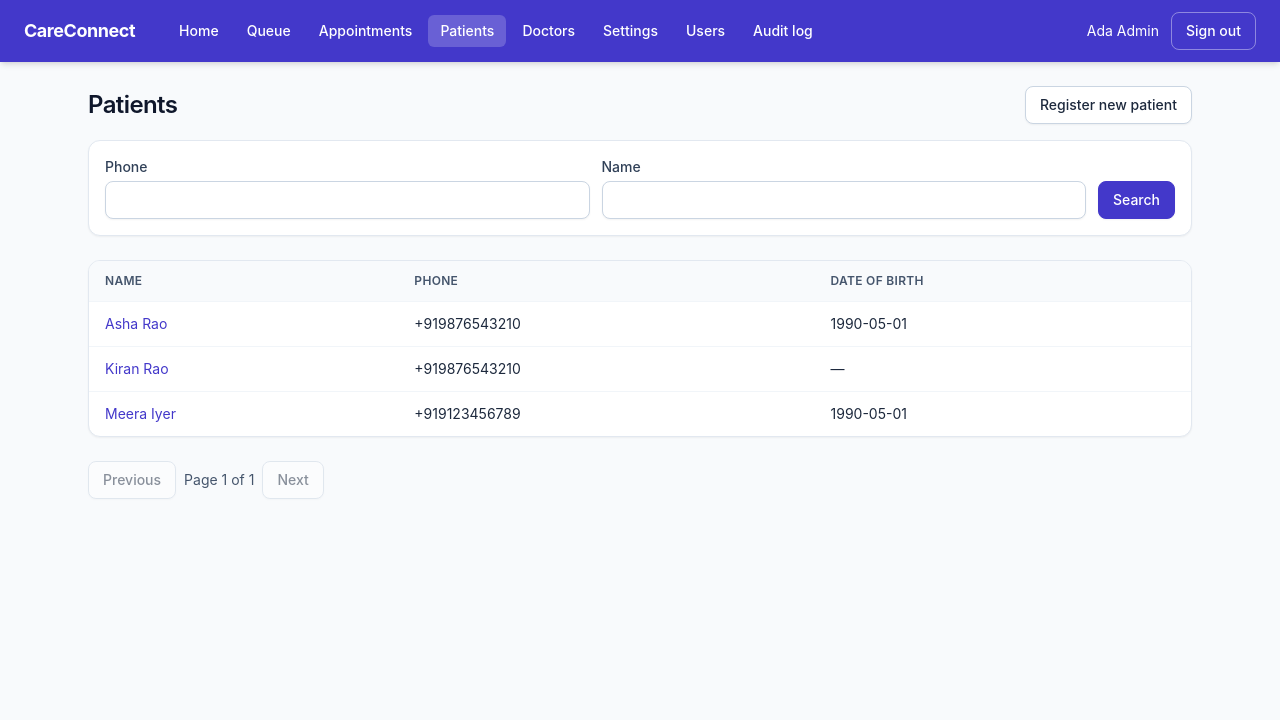
Scenario: Patients page › offers to register a new patient under the searched phone number
Step 1. Type "98765 43210" into the field labelled "Phone" → (347, 200), box [105, 181, 590, 219]
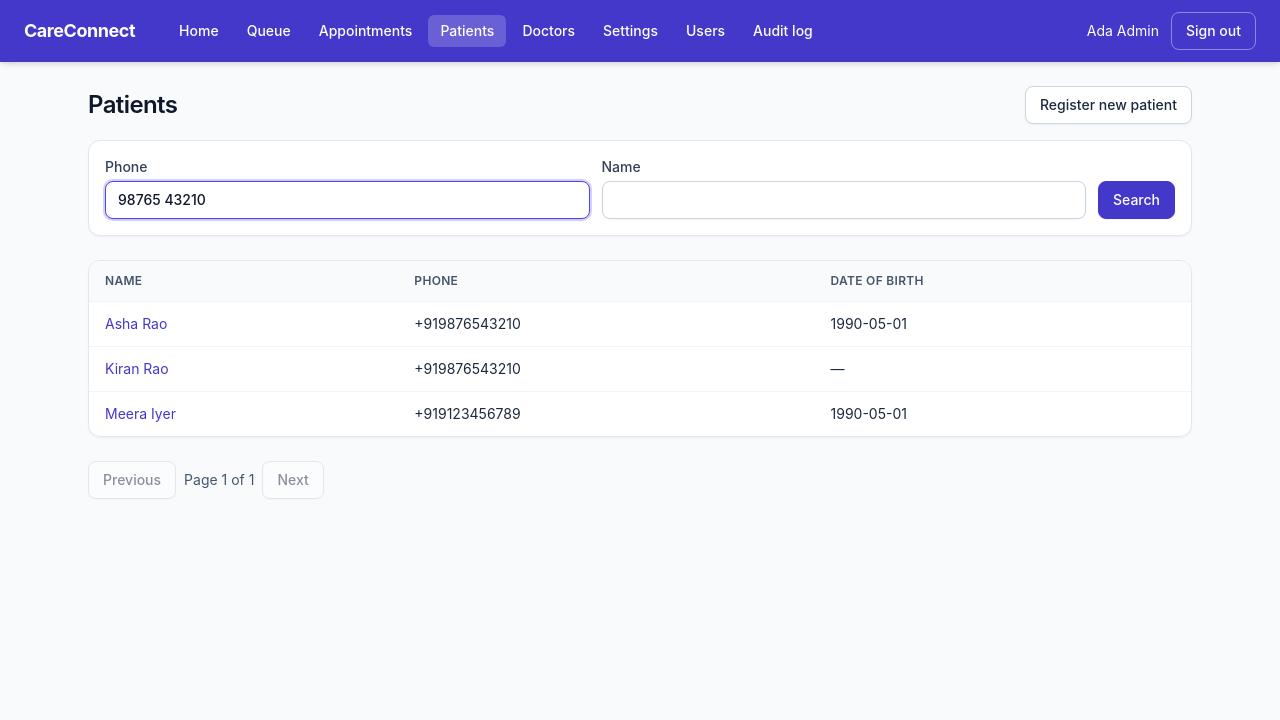
Step 2. Click the button "Search" → (1136, 200), box [1098, 181, 1175, 219]
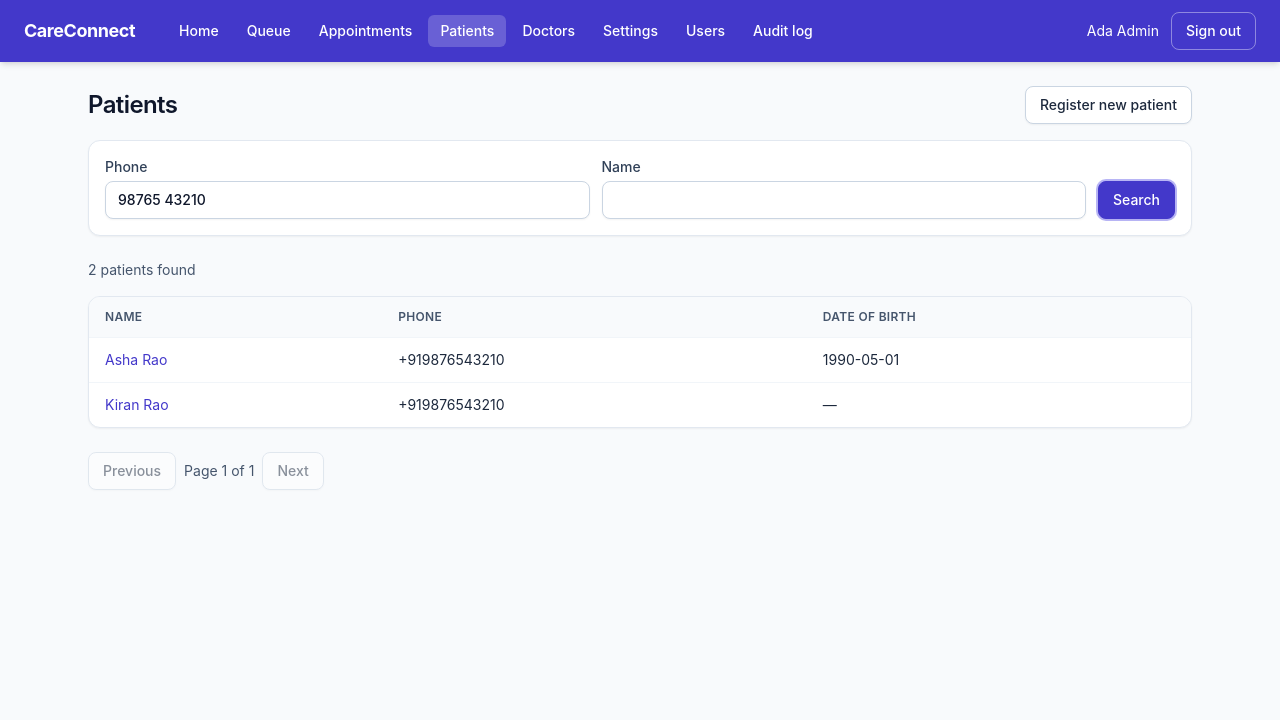
Step 3. Click the button "Register new patient" → (1108, 105), box [1025, 86, 1192, 124]
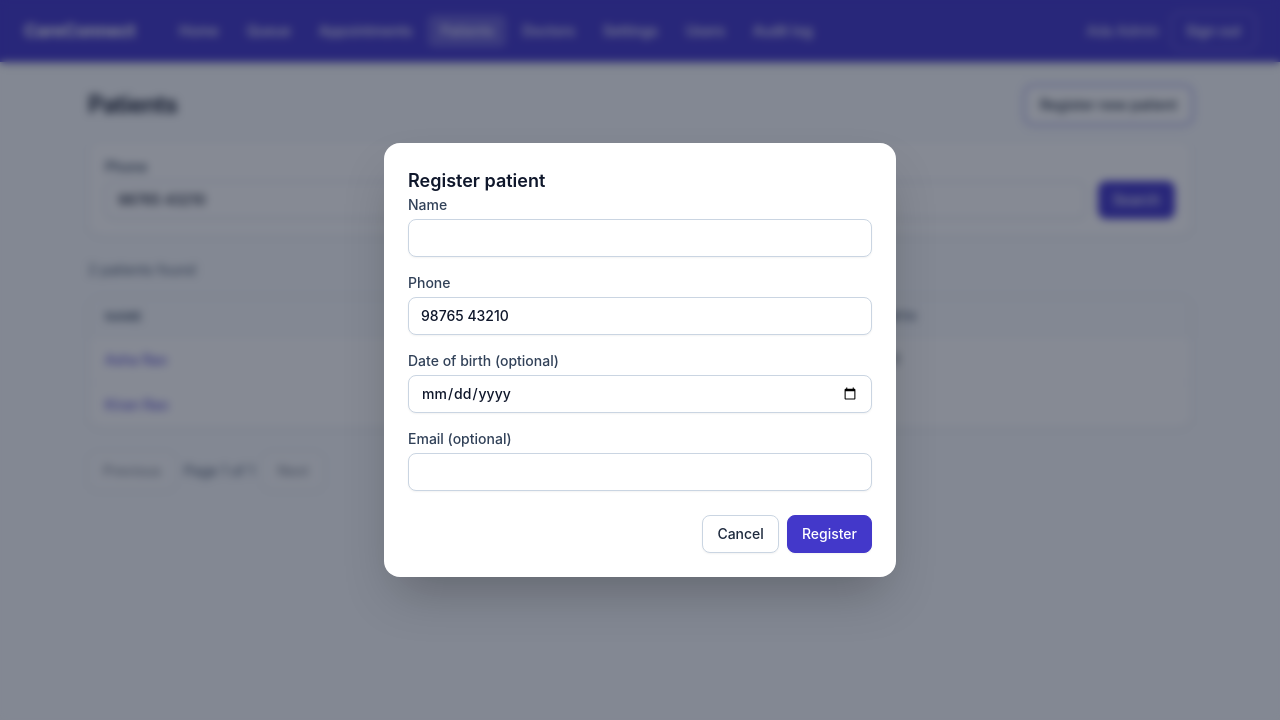
Check: the field labelled "Phone" holds "98765 43210", box [408, 297, 872, 335]
Step 4. Type "Zara Rao" into the field labelled "Name" → (640, 238), box [408, 219, 872, 257]
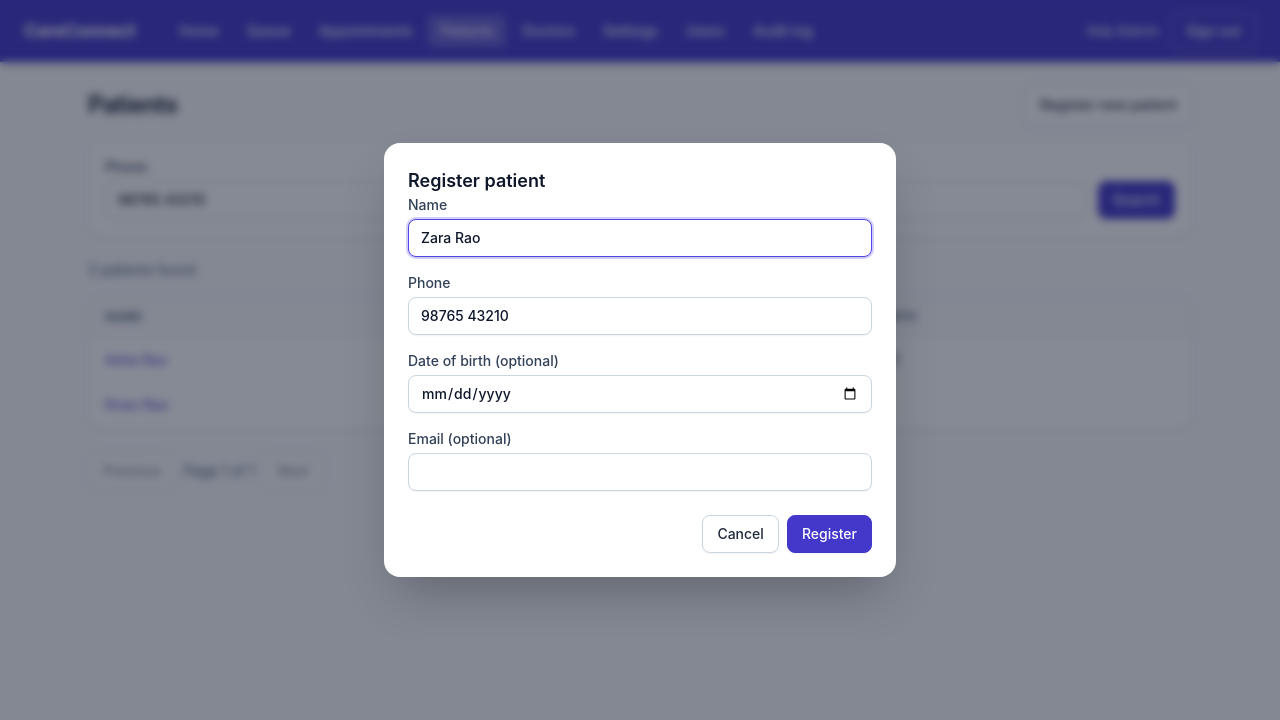
Step 5. Click the button "Register" → (829, 534), box [787, 515, 872, 553]
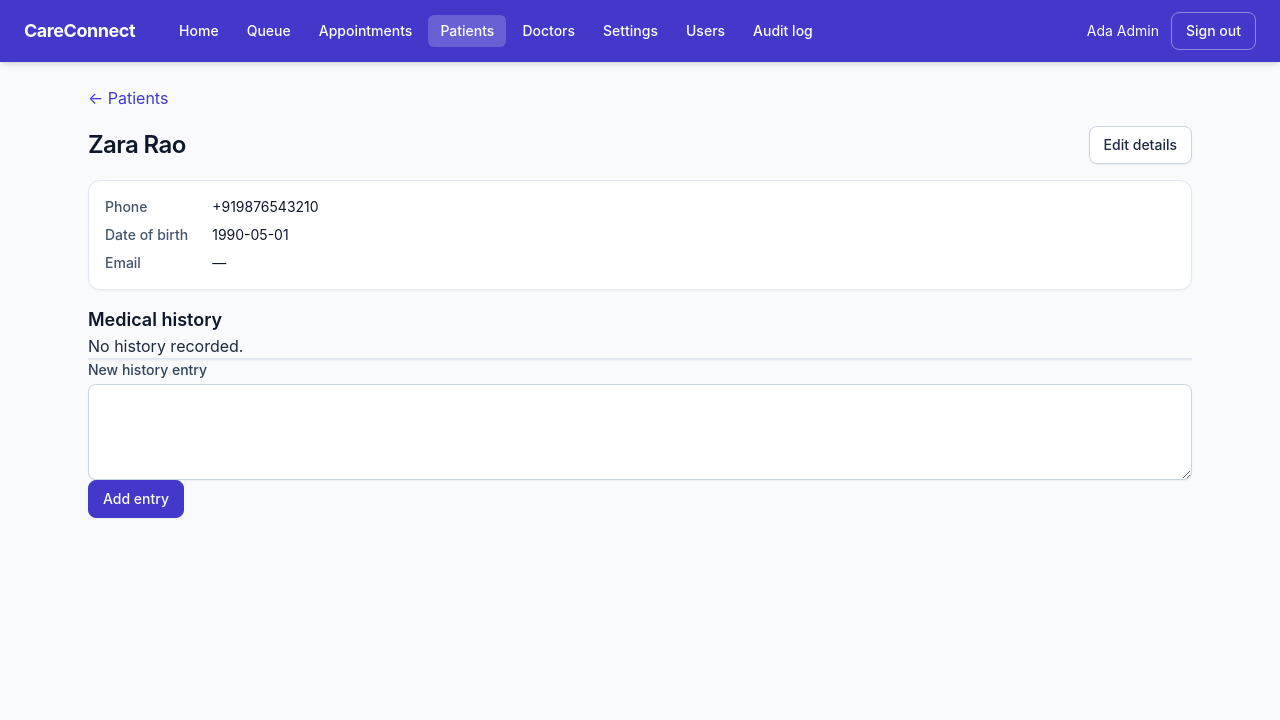
Check: the heading "Zara Rao" is shown, box [88, 129, 186, 161]
